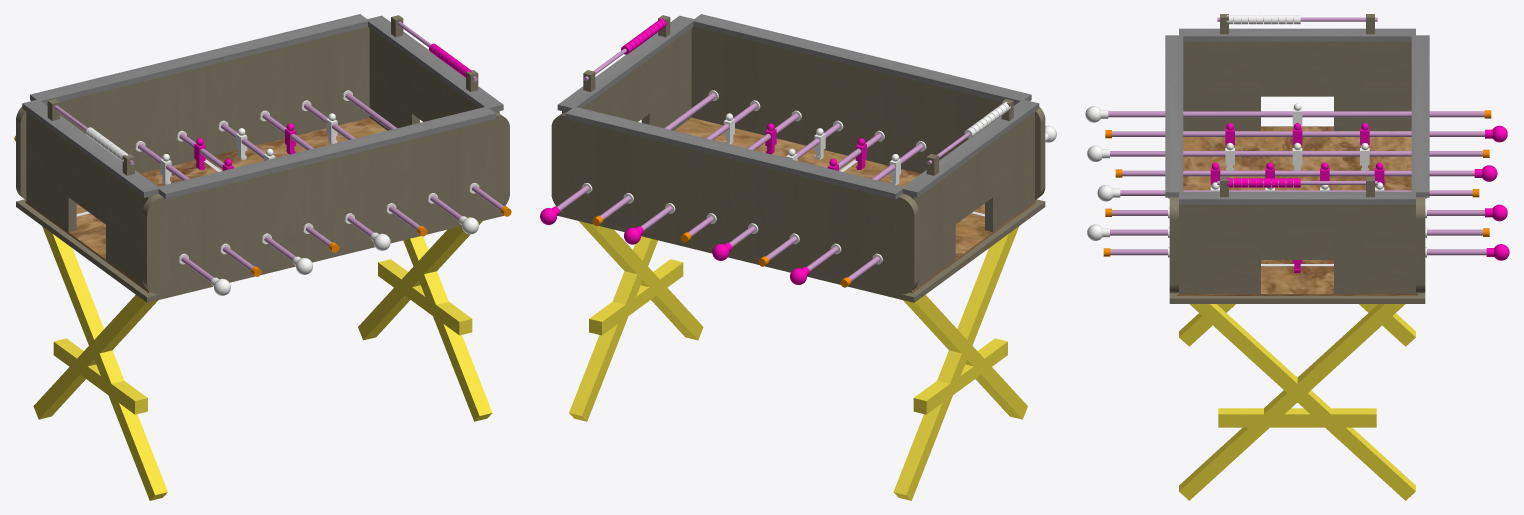
Rendered from Sports_Table_football__0027.glb.
3 views of the same model, side by side, from view 1: azimuth 30°, elevation 25°; view 2: azimuth 150°, elevation 25°; view 3: azimuth 270°, elevation 25° (orthographic). The views are drawn at different scales.
Visible parts, largest first — view 1: cabinet::side_panel_0, cabinet::side_panel_1, cabinet::trestle_0_bar_b, cabinet::side_rim_0, cabinet::side_rim_1, cabinet::pitch, cabinet::end_wall_0_post_b, cabinet::end_wall_1_post_b, cabinet::trestle_1_bar_b, cabinet::end_wall_0_post_a, cabinet::cabinet_base, cabinet::trestle_0_bar_a (+11 smaller); view 2: cabinet::side_panel_1, cabinet::side_panel_0, cabinet::trestle_0_bar_a, cabinet::side_rim_1, cabinet::side_rim_0, cabinet::pitch, cabinet::end_wall_0_post_a, cabinet::end_wall_1_post_a, cabinet::end_wall_0_post_b, cabinet::trestle_1_bar_a, cabinet::cabinet_base, cabinet::trestle_0_bar_b (+11 smaller); view 3: cabinet::pitch, cabinet::end_wall_1_post_a, cabinet::end_wall_1_post_b, cabinet::end_wall_0_post_a, cabinet::end_wall_0_post_b, cabinet::trestle_1_bar_a, cabinet::trestle_1_bar_b, cabinet::end_wall_0_lintel, cabinet::end_wall_1_lintel, cabinet::end_rim_1, cabinet::end_rim_0, cabinet::side_rim_0 (+15 smaller).
Boxes of the visible parts, x1=… form: cabinet::side_panel_0: x1=142, y1=112, x2=509, y2=294; cabinet::side_panel_1: x1=16, y1=26, x2=369, y2=199; cabinet::trestle_0_bar_b: x1=42, y1=226, x2=167, y2=500; cabinet::side_rim_0: x1=158, y1=107, x2=495, y2=199; cabinet::side_rim_1: x1=30, y1=14, x2=369, y2=104; cabinet::pitch: x1=25, y1=117, x2=387, y2=293; cabinet::end_wall_0_post_b: x1=26, y1=112, x2=76, y2=232; cabinet::end_wall_1_post_b: x1=369, y1=28, x2=419, y2=130; cabinet::trestle_1_bar_b: x1=403, y1=236, x2=492, y2=421; cabinet::end_wall_0_post_a: x1=106, y1=170, x2=153, y2=290; cabinet::cabinet_base: x1=16, y1=199, x2=506, y2=302; cabinet::trestle_0_bar_a: x1=33, y1=295, x2=158, y2=419; cabinet::side_panel_1: x1=551, y1=112, x2=918, y2=294; cabinet::side_panel_0: x1=691, y1=26, x2=1045, y2=199; cabinet::trestle_0_bar_a: x1=893, y1=226, x2=1018, y2=500; cabinet::side_rim_1: x1=565, y1=107, x2=903, y2=199; cabinet::side_rim_0: x1=692, y1=14, x2=1031, y2=104; cabinet::pitch: x1=674, y1=118, x2=1035, y2=293; cabinet::end_wall_0_post_a: x1=985, y1=112, x2=1034, y2=232; cabinet::end_wall_1_post_a: x1=641, y1=28, x2=691, y2=130; cabinet::end_wall_0_post_b: x1=906, y1=170, x2=955, y2=290; cabinet::trestle_1_bar_a: x1=569, y1=236, x2=657, y2=421; cabinet::cabinet_base: x1=555, y1=199, x2=1045, y2=302; cabinet::trestle_0_bar_b: x1=903, y1=295, x2=1027, y2=419; cabinet::pitch: x1=1177, y1=127, x2=1417, y2=295; cabinet::end_wall_1_post_a: x1=1179, y1=204, x2=1260, y2=293; cabinet::end_wall_1_post_b: x1=1334, y1=204, x2=1415, y2=293; cabinet::end_wall_0_post_a: x1=1183, y1=41, x2=1260, y2=130; cabinet::end_wall_0_post_b: x1=1334, y1=41, x2=1411, y2=130; cabinet::trestle_1_bar_a: x1=1189, y1=304, x2=1415, y2=500; cabinet::trestle_1_bar_b: x1=1179, y1=304, x2=1405, y2=500; cabinet::end_wall_0_lintel: x1=1261, y1=41, x2=1333, y2=96; cabinet::end_wall_1_lintel: x1=1261, y1=204, x2=1333, y2=259; cabinet::end_rim_1: x1=1179, y1=191, x2=1415, y2=204; cabinet::end_rim_0: x1=1179, y1=28, x2=1415, y2=41; cabinet::side_rim_0: x1=1165, y1=35, x2=1183, y2=197.
Size of the model in its own units: 1.12 by 0.9786 by 1.16.
Materials: 18 (5 with a texture image).
